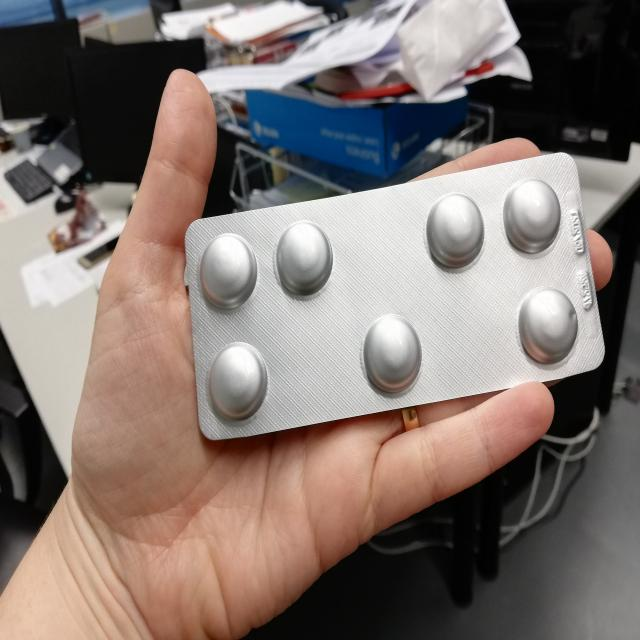Pill: (360, 308, 428, 397), (516, 280, 582, 366), (208, 335, 271, 425), (422, 188, 486, 274), (501, 172, 564, 253), (272, 217, 334, 299), (195, 233, 258, 311)
